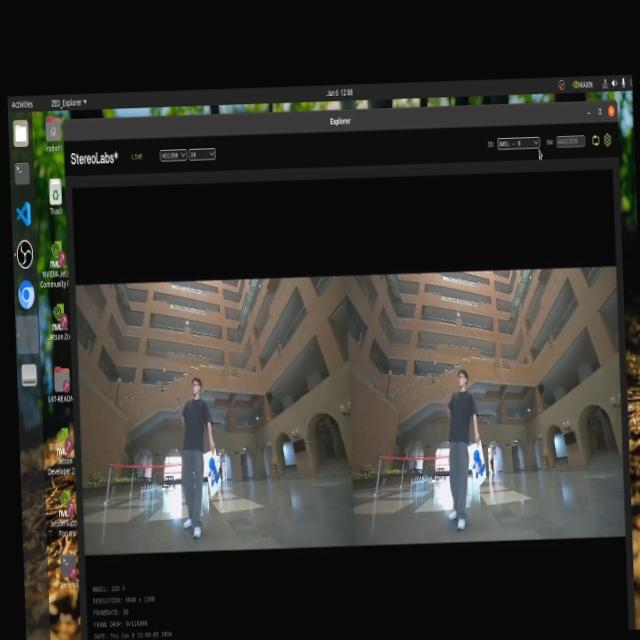blue: (201, 454, 224, 497), (468, 444, 483, 484)
